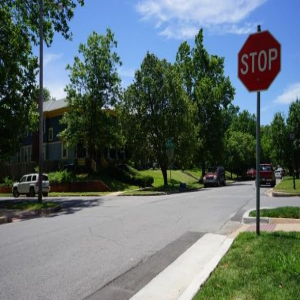STOP_SIGN: (237, 28, 281, 92)
